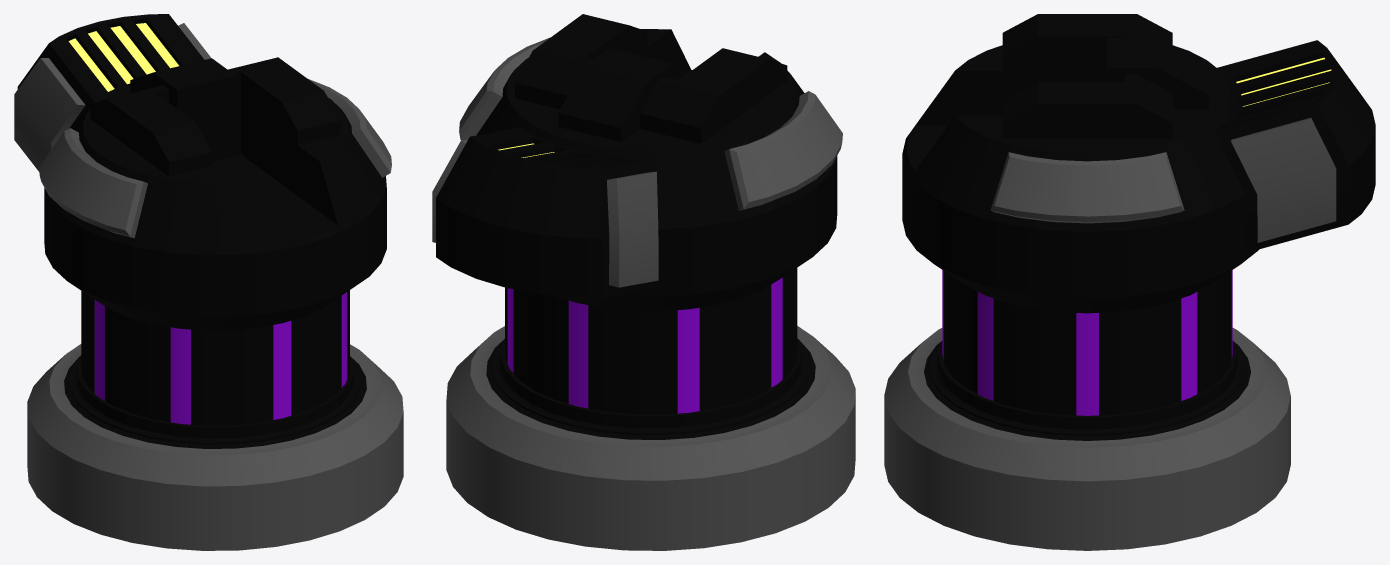
Rendered from 01_turret_regorSpire.glb.
The picture shows the model from 3 angles, left to right: view 1: azimuth 30°, elevation 25°; view 2: azimuth 150°, elevation 25°; view 3: azimuth 270°, elevation 25°; orthographic projection. The views are drawn at different scales.
Parts seen in each view (by area): view 1: 01_regorTurret_body, 01_regorTurret_body_old; view 2: 01_regorTurret_body, 01_regorTurret_body_old; view 3: 01_regorTurret_body, 01_regorTurret_body_old.
Part boxes in pixels (bbox=[...]): 01_regorTurret_body: bbox=[14, 14, 403, 550]; 01_regorTurret_body_old: bbox=[69, 58, 369, 444]; 01_regorTurret_body: bbox=[432, 23, 855, 550]; 01_regorTurret_body_old: bbox=[492, 14, 809, 435]; 01_regorTurret_body: bbox=[884, 14, 1375, 550]; 01_regorTurret_body_old: bbox=[902, 14, 1245, 436].
Bounding box in the file's own units: 0.5731 × 0.641 × 0.6927.
